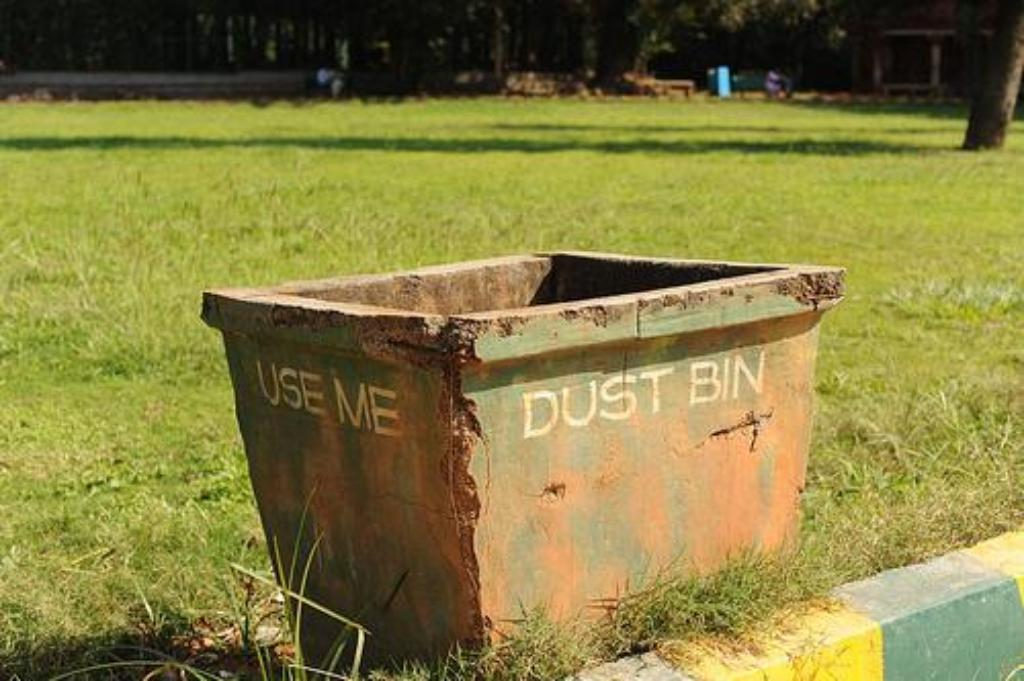dustbin: (210, 212, 859, 634)
